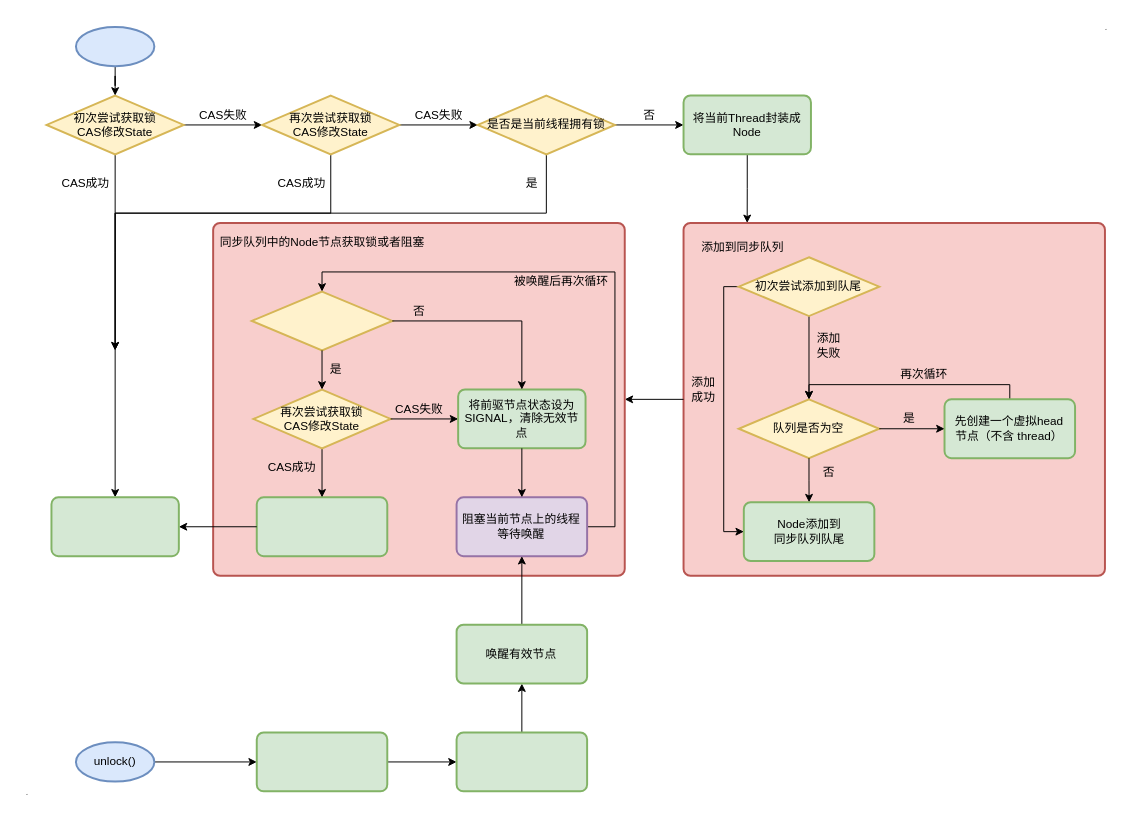
This 1132x817 diagram has some shape labels left out. Each missing label, with the box of its shape:
lock(): (74, 25, 155, 67)
前驱节点是否为 head: (250, 290, 393, 351)
将当前节点设为head: (255, 496, 388, 557)
成功获取锁: (50, 496, 179, 557)
获取head后驱节点 或者从tail往前遍历的第一个有效节点: (455, 731, 588, 792)
释放锁 CAS修改state: (255, 731, 388, 792)
